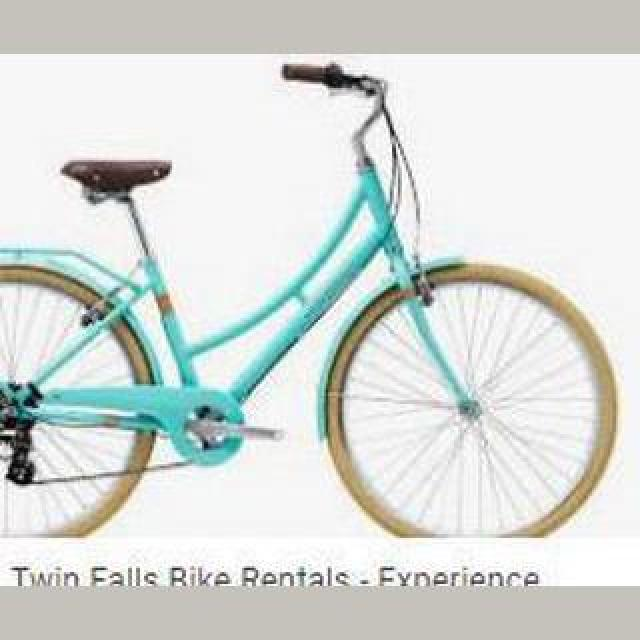Person: (3, 60, 613, 532)
